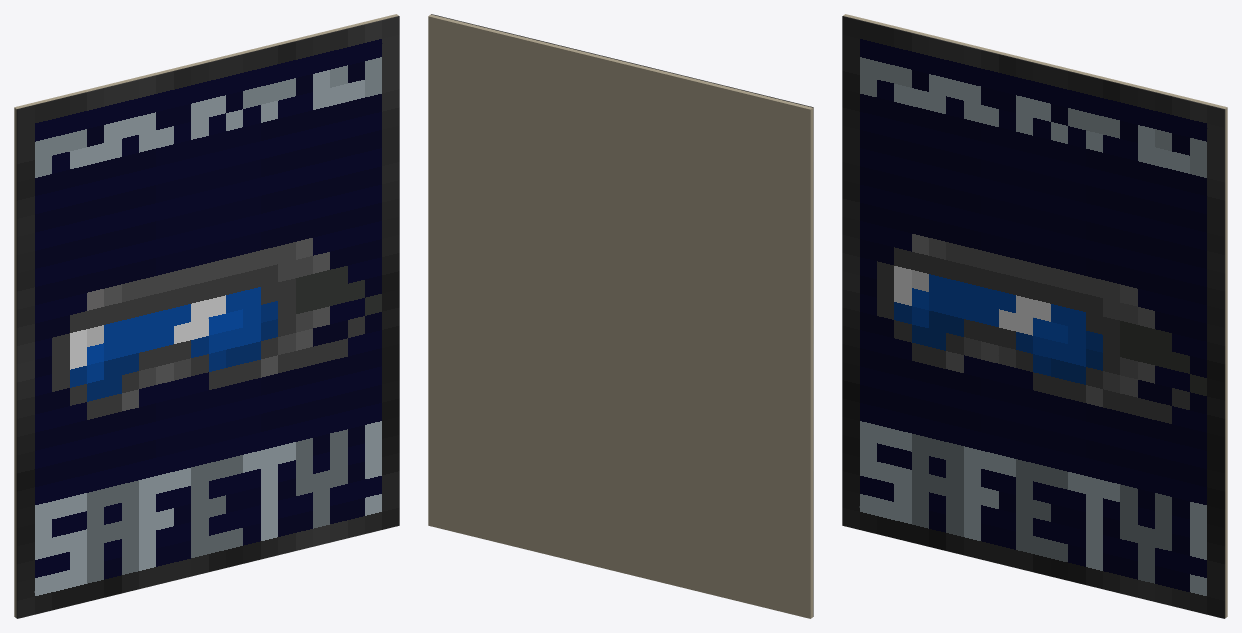
Rendered from CMU3DWallPosterPosterLegitSafetyEyeProtection.glb.
3 views of the same model, side by side, from view 1: azimuth 30°, elevation 25°; view 2: azimuth 150°, elevation 25°; view 3: azimuth 330°, elevation 25° (orthographic).
Visible parts, largest first — view 1: unchanged printed face, silhouette paper backing 0; view 2: silhouette paper backing 0, unchanged printed face; view 3: unchanged printed face, silhouette paper backing 0.
Part boxes in pixels (bbox=[...]): unchanged printed face: bbox=[16, 16, 399, 618]; silhouette paper backing 0: bbox=[14, 14, 398, 617]; silhouette paper backing 0: bbox=[428, 14, 813, 618]; unchanged printed face: bbox=[431, 14, 813, 616]; unchanged printed face: bbox=[842, 16, 1225, 618]; silhouette paper backing 0: bbox=[843, 14, 1227, 617].
Bounding box in the file's own units: 0.6875 × 0.875 × 0.01.
Materials: 2 (1 with a texture image).
